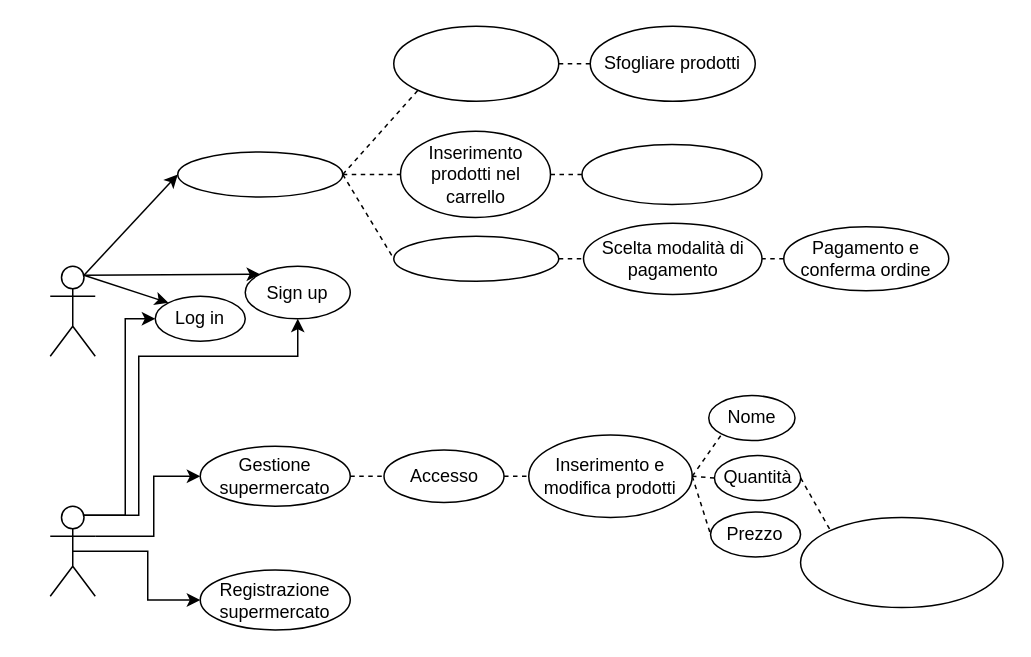
This 1031x657 diagram has some shape labels left out. Each missing label, with the centre of its shape:
Aggiornamento disponibilità automatico o manuale: point 901,562
Checkout: point 475,258
Cliente: point 72,310
Comprare prodotti: point 259,173
Proprietario: point 72,550
Scelta numero prodotti: point 671,173
Sfogliare supermercati: point 475,63
